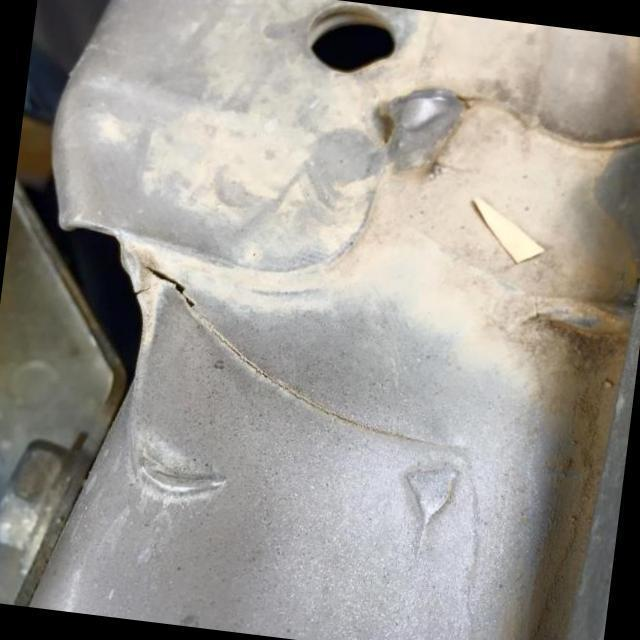defect: (140, 262, 484, 454), (135, 284, 154, 297)
